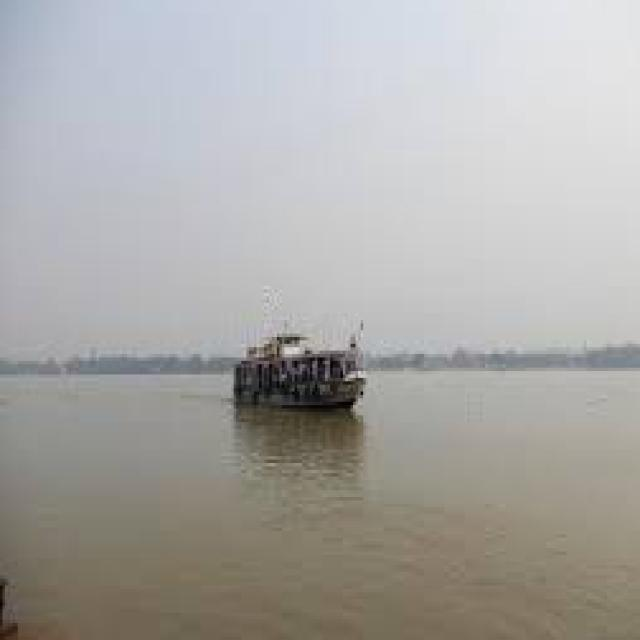houseboat: (228, 312, 372, 414)
